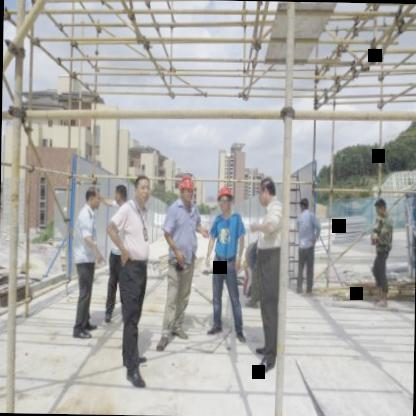head: (254, 170, 277, 208), (132, 172, 156, 206), (82, 184, 102, 212), (112, 180, 128, 206), (296, 194, 311, 214), (373, 197, 387, 218)
helmet: (175, 172, 197, 204), (212, 184, 235, 214)
